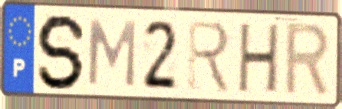2: (139, 19, 183, 93)
H: (235, 22, 282, 97)
M: (85, 17, 138, 91)
R: (281, 21, 334, 100), (186, 18, 233, 96)
S: (35, 12, 90, 92)
